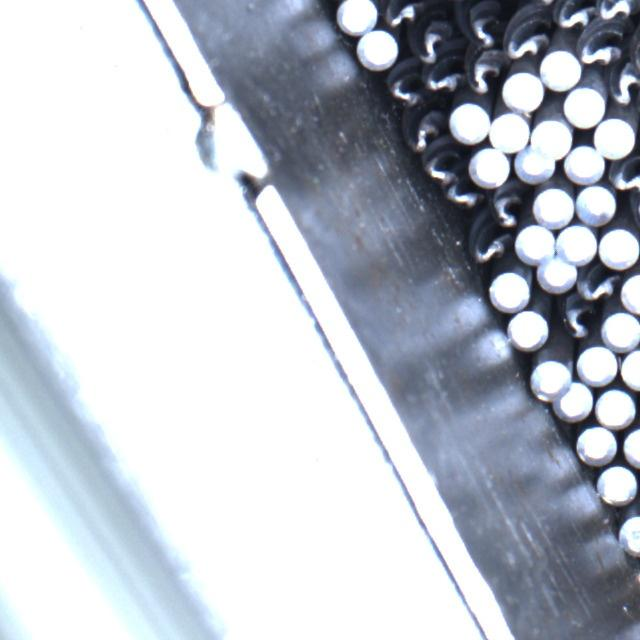tool: (595, 226, 640, 270), (526, 358, 572, 401), (446, 100, 490, 144), (355, 26, 399, 70), (591, 118, 636, 161), (467, 145, 510, 188), (539, 47, 582, 90), (531, 187, 573, 231), (575, 343, 618, 385), (507, 311, 550, 353), (502, 70, 544, 112), (560, 143, 604, 183), (594, 385, 635, 427), (575, 423, 617, 464), (488, 269, 529, 311), (488, 109, 528, 152), (553, 380, 593, 423), (563, 85, 604, 126), (514, 222, 555, 263), (529, 115, 571, 155), (600, 308, 640, 349), (537, 255, 578, 295), (556, 222, 596, 263), (596, 464, 637, 504), (576, 182, 615, 224), (514, 146, 554, 184), (334, 0, 377, 34), (614, 514, 640, 559), (619, 346, 640, 389), (620, 425, 640, 467), (620, 272, 640, 314)
tool_b: (409, 15, 457, 64), (505, 7, 547, 63), (466, 212, 508, 267), (574, 19, 620, 64), (464, 48, 504, 98), (486, 181, 528, 227), (462, 0, 503, 47), (423, 135, 461, 185), (557, 295, 597, 342), (402, 108, 443, 152), (387, 62, 422, 111), (426, 55, 463, 101), (605, 60, 639, 109), (576, 270, 620, 302), (605, 158, 640, 198), (445, 174, 482, 211), (381, 0, 429, 28), (552, 0, 593, 30), (597, 0, 632, 21)
